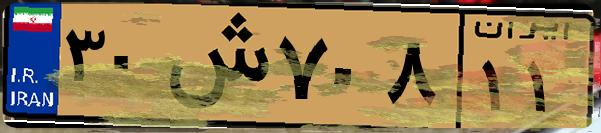0: (330, 28, 385, 110), (110, 28, 158, 98)
1: (475, 38, 525, 113), (525, 38, 570, 115)
3: (57, 26, 110, 100)
7: (270, 28, 330, 110)
8: (385, 28, 445, 110)
ش: (158, 12, 270, 120)
